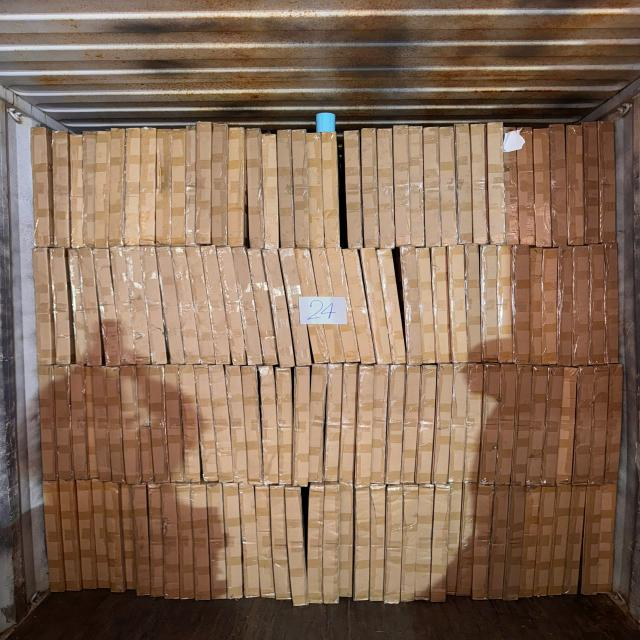Carton: (308, 248, 347, 364), (294, 248, 331, 364), (200, 246, 233, 366), (247, 249, 280, 366), (401, 249, 433, 368), (215, 246, 247, 365), (170, 246, 202, 365), (232, 247, 264, 365), (360, 250, 391, 369), (91, 248, 122, 367), (185, 246, 216, 364), (122, 245, 152, 366), (264, 249, 294, 368), (76, 247, 105, 367), (157, 244, 185, 366), (329, 247, 358, 364), (108, 245, 136, 366), (29, 126, 56, 248), (345, 248, 372, 366), (193, 364, 220, 482), (141, 244, 166, 368), (378, 247, 404, 365), (50, 247, 75, 366), (66, 248, 91, 366), (31, 248, 56, 366), (354, 365, 378, 487), (39, 478, 64, 594), (526, 364, 550, 484), (225, 365, 249, 483), (541, 366, 565, 484), (575, 366, 598, 488), (119, 365, 142, 486), (464, 364, 487, 485), (478, 362, 501, 483), (433, 364, 455, 490), (209, 368, 233, 483), (446, 363, 469, 483), (494, 364, 517, 484), (510, 364, 533, 484), (415, 365, 437, 490), (570, 243, 592, 368), (148, 365, 171, 484), (472, 484, 495, 602), (586, 363, 608, 485), (511, 244, 533, 364), (602, 363, 624, 483), (50, 132, 72, 250), (488, 484, 510, 602), (506, 484, 528, 602), (479, 244, 501, 362), (37, 364, 59, 482), (104, 365, 126, 483), (228, 126, 249, 248), (557, 367, 578, 489), (59, 481, 82, 592), (91, 365, 113, 481), (448, 243, 469, 364), (137, 125, 158, 245), (53, 366, 75, 480), (169, 125, 190, 244), (439, 126, 459, 250), (422, 126, 442, 250), (539, 244, 559, 368), (588, 242, 608, 366), (402, 364, 422, 487), (180, 368, 201, 485), (342, 130, 363, 247), (319, 132, 340, 249), (385, 366, 405, 488), (532, 129, 552, 251), (432, 244, 452, 366), (550, 127, 570, 249), (391, 126, 411, 248), (598, 123, 618, 245), (516, 129, 536, 250), (376, 127, 396, 248), (368, 364, 388, 485), (210, 125, 230, 246), (555, 246, 575, 367), (400, 482, 420, 603), (340, 363, 360, 483), (106, 130, 126, 250), (359, 128, 379, 248), (321, 483, 341, 603), (93, 132, 113, 252), (500, 127, 520, 247), (486, 126, 506, 246), (534, 484, 555, 598), (285, 486, 305, 605), (306, 131, 326, 250), (582, 486, 604, 594), (242, 365, 262, 483), (384, 484, 404, 602), (166, 366, 186, 484), (245, 130, 265, 248), (152, 130, 172, 248), (290, 129, 310, 247), (262, 131, 282, 248), (192, 484, 212, 600), (520, 484, 540, 600), (306, 483, 325, 605), (583, 123, 602, 245), (407, 127, 426, 249), (597, 486, 618, 596), (566, 124, 585, 245), (565, 485, 586, 594), (324, 363, 343, 483), (69, 365, 89, 479), (309, 365, 328, 484), (124, 129, 143, 248), (495, 244, 514, 363), (135, 365, 154, 484), (292, 366, 311, 484), (277, 130, 296, 248), (76, 481, 96, 593), (131, 486, 151, 598), (353, 484, 372, 601), (455, 124, 473, 247), (552, 486, 572, 596), (470, 124, 488, 246), (433, 485, 452, 600), (196, 126, 214, 247), (68, 129, 86, 250), (262, 366, 280, 486), (240, 485, 259, 598), (370, 484, 388, 603), (466, 245, 484, 364), (276, 366, 294, 484), (416, 484, 434, 602), (271, 489, 289, 606), (104, 483, 123, 593), (118, 482, 137, 592), (446, 484, 464, 600), (337, 482, 355, 598), (603, 242, 620, 364), (208, 484, 226, 599), (222, 484, 240, 599), (255, 485, 273, 600), (163, 484, 181, 598), (460, 484, 477, 601), (177, 484, 194, 600), (81, 130, 97, 248), (148, 485, 164, 597), (94, 481, 110, 593), (185, 124, 198, 245)
